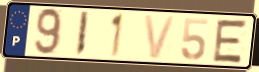1: (109, 12, 128, 60)
5: (180, 17, 210, 62)
9: (32, 6, 64, 58)
E: (210, 18, 250, 66)
I: (74, 10, 91, 57)
V: (143, 13, 178, 60)
